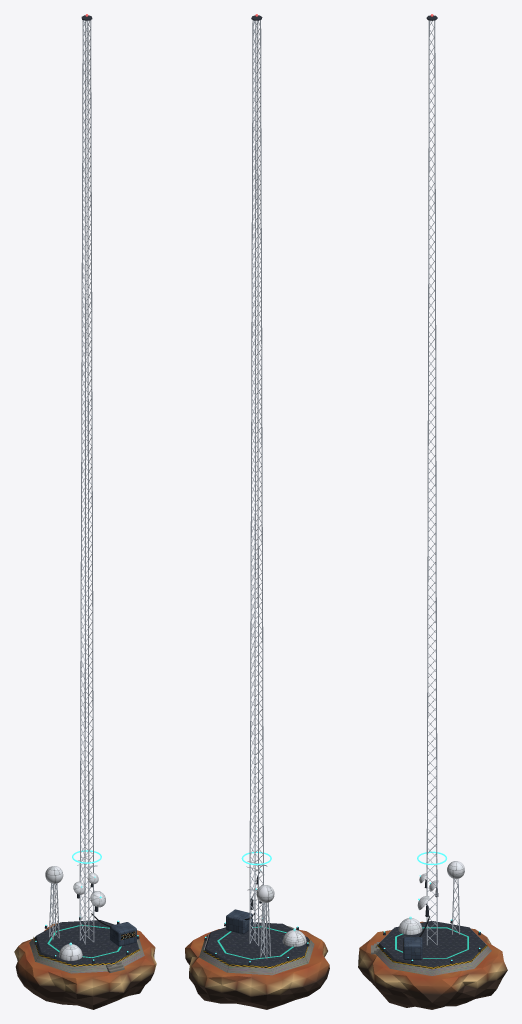
3 views of the same model, side by side, from view 1: azimuth 30°, elevation 25°; view 2: azimuth 150°, elevation 25°; view 3: azimuth 270°, elevation 25° (orthographic).
Parts seen in each view (by area): view 1: object 1, object 4, object 2, object 796; view 2: object 1, object 4, object 2, object 796; view 3: object 1, object 4, object 2, object 796.
Part boxes in pixels (x1,y1,x2,y2): object 1: (14, 923, 156, 1009); object 4: (34, 920, 138, 964); object 2: (29, 935, 144, 973); object 796: (110, 922, 136, 946); object 1: (185, 929, 329, 1009); object 4: (204, 922, 309, 966); object 2: (199, 934, 314, 975); object 796: (226, 909, 252, 934); object 1: (358, 921, 507, 1009); object 4: (378, 921, 485, 967); object 2: (375, 929, 491, 975); object 796: (403, 937, 422, 960).
Size of the model in its own units: 6.25 by 44.96 by 6.25.
Materials: 15 (6 with a texture image).
